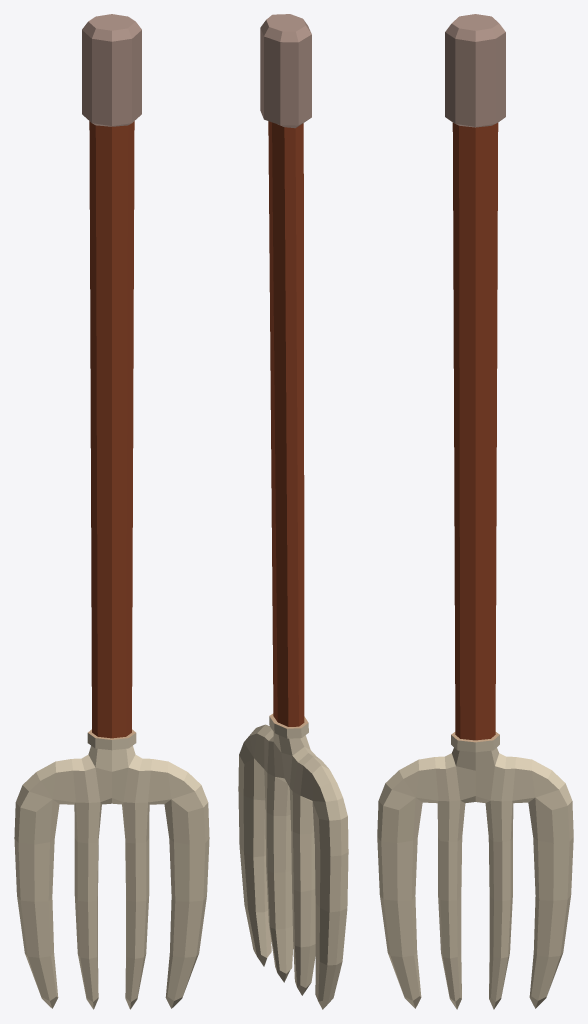
Rendered from fork.fbx.
3 renders of one model, left to right at view 1: azimuth 90°, elevation 25°; view 2: azimuth 210°, elevation 25°; view 3: azimuth 270°, elevation 25°, orthographic. The views are drawn at different scales.
Visible parts, largest first — view 1: fork; view 2: fork; view 3: fork.
Boxes of the visible parts, x1=… form: fork: x1=14, y1=14, x2=209, y2=1009; fork: x1=238, y1=14, x2=348, y2=1009; fork: x1=377, y1=14, x2=573, y2=1009.
Size of the model in its own units: 27.52 by 578 by 104.
